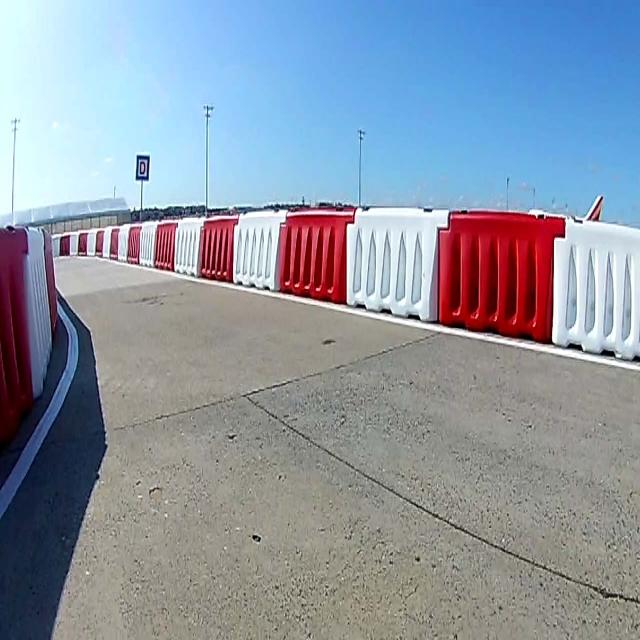durak: (137, 156, 149, 181)
